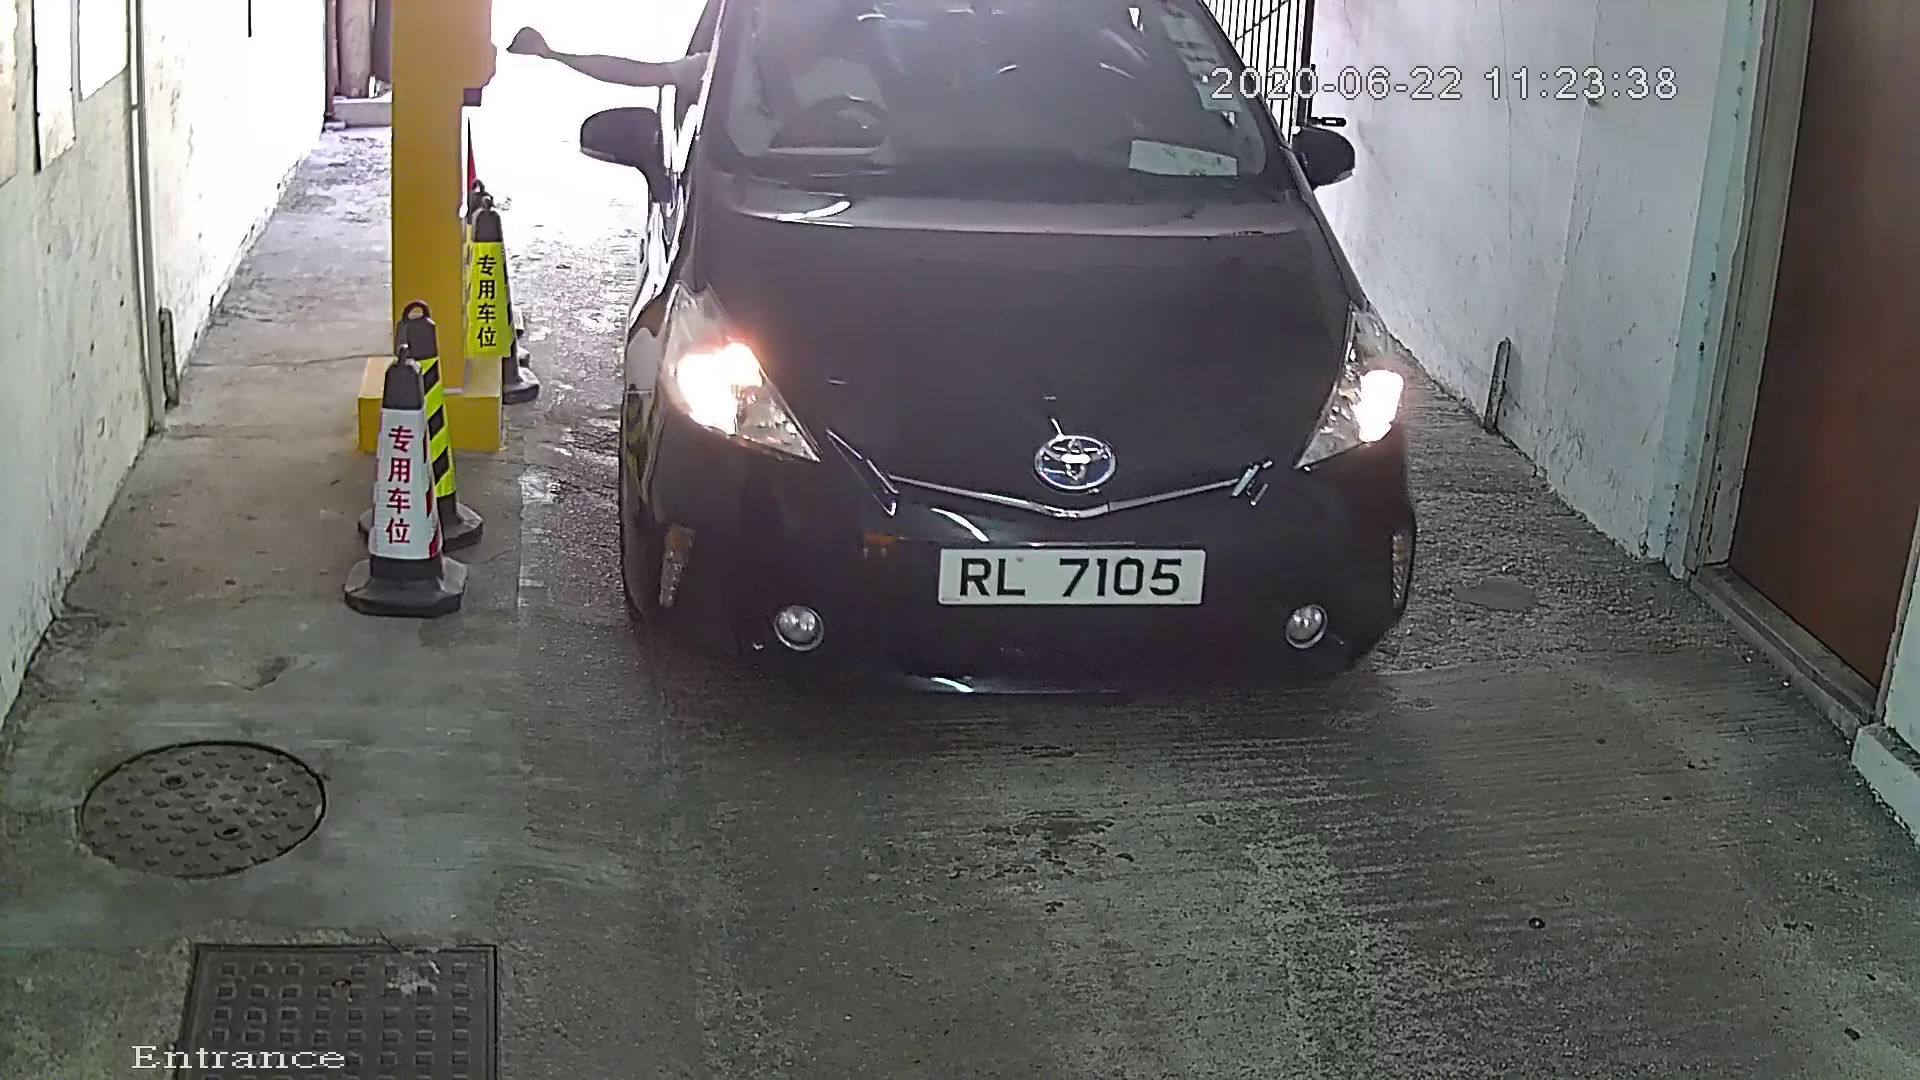privatecar: (538, 1, 1513, 746)
